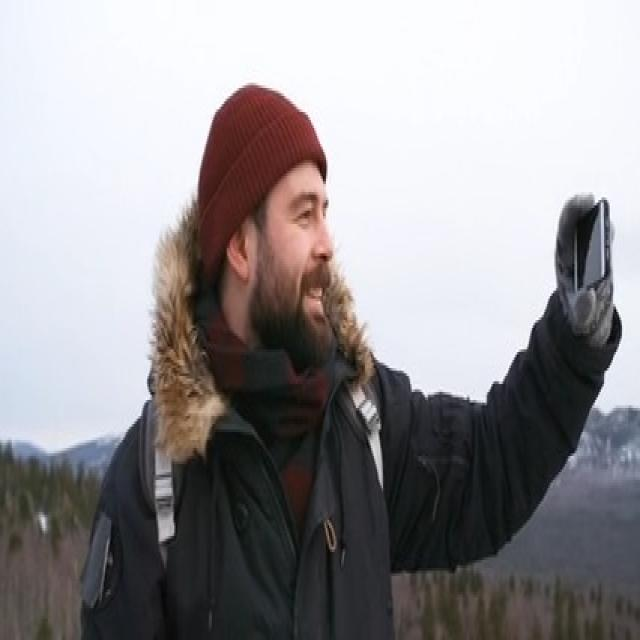Jacket_Wearer: (71, 285, 640, 640)
Person: (50, 88, 617, 640)
